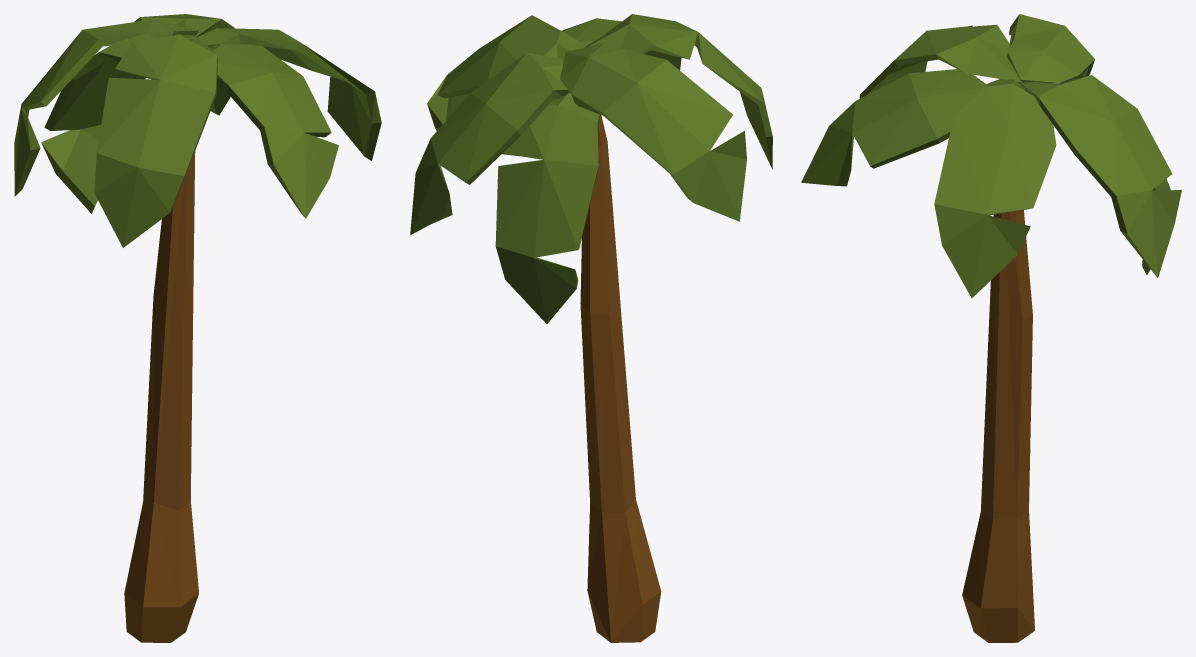
File: Flat_Palm_tree_03.fbx
The picture shows the model from 3 angles, left to right: view 1: azimuth 30°, elevation 25°; view 2: azimuth 150°, elevation 25°; view 3: azimuth 270°, elevation 25°; orthographic projection.
Visible parts, largest first — view 1: Palm_tree_03; view 2: Palm_tree_03; view 3: Palm_tree_03.
Part boxes in pixels (box(x1,y1,x2,y2)): Palm_tree_03: box(14, 14, 381, 642); Palm_tree_03: box(410, 14, 772, 642); Palm_tree_03: box(801, 14, 1181, 642).
Bounding box in the file's own units: 418 × 736 × 423.
